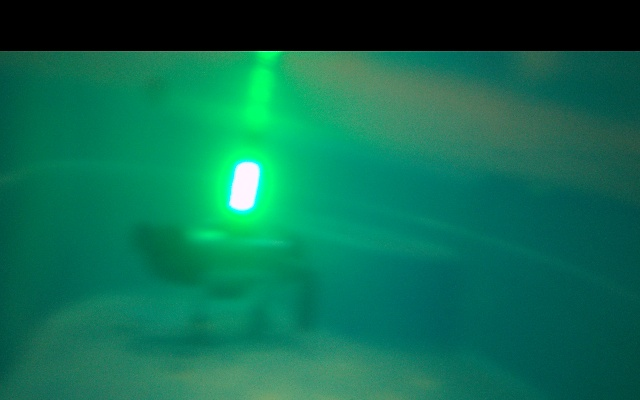green: (228, 158, 259, 221)
